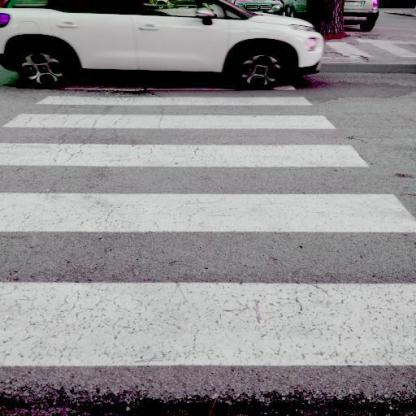crosswalk: (0, 187, 415, 378), (0, 109, 375, 173)
